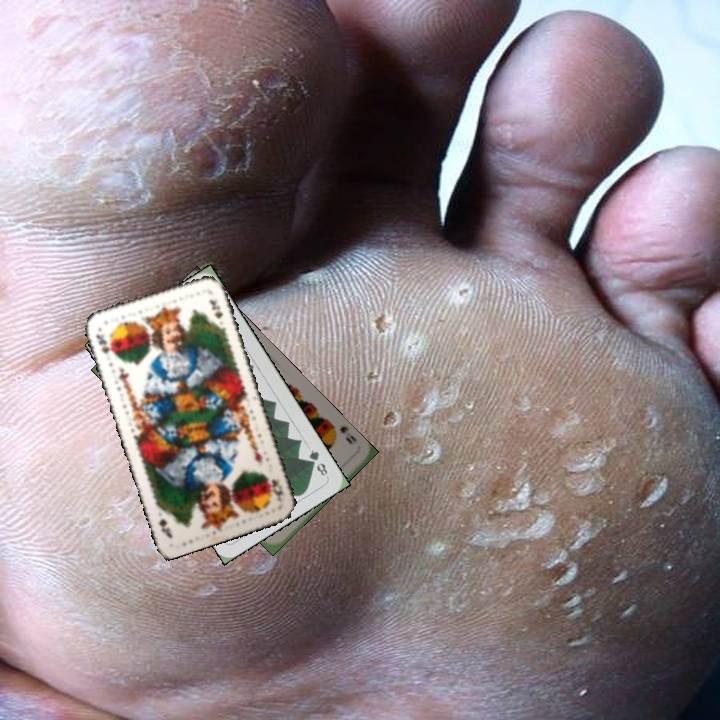G8: (305, 445, 330, 479)
S9: (327, 420, 356, 447)
SK: (92, 330, 118, 362), (264, 472, 285, 505)
